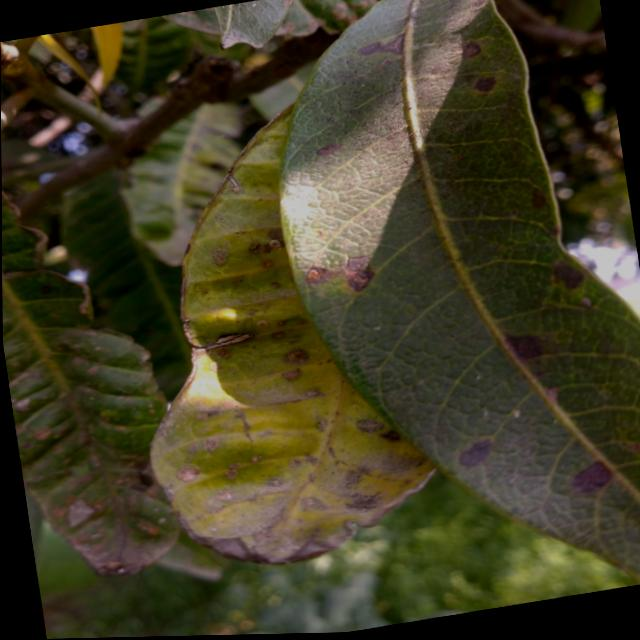Anthracnose: (326, 257, 377, 298)
black die: (568, 456, 629, 496), (447, 436, 503, 473), (350, 29, 400, 57), (504, 328, 546, 361), (461, 71, 501, 100)
